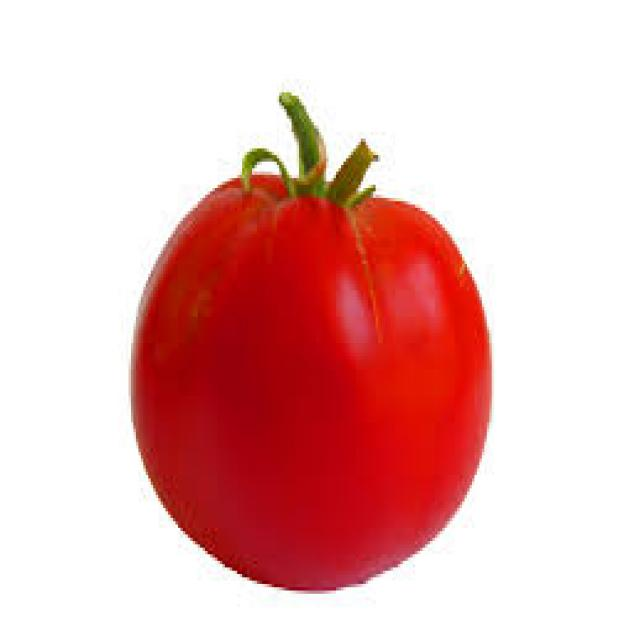organic waste: (126, 109, 492, 590)
